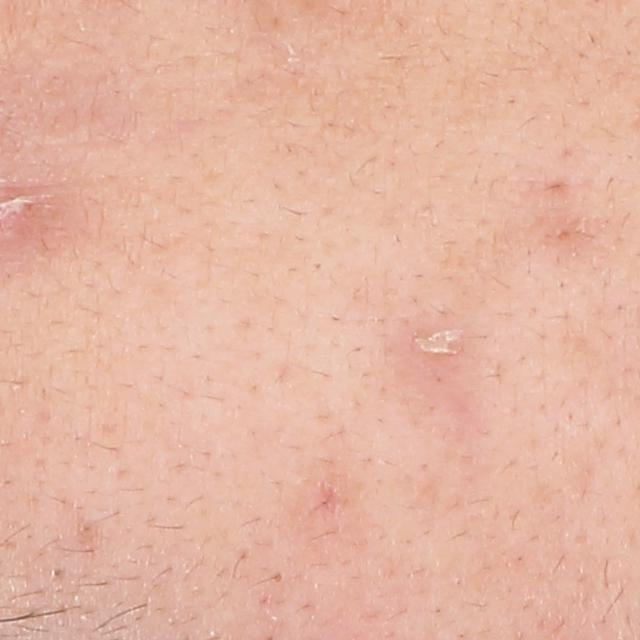comedo: (81, 520, 97, 537), (270, 569, 284, 583)
